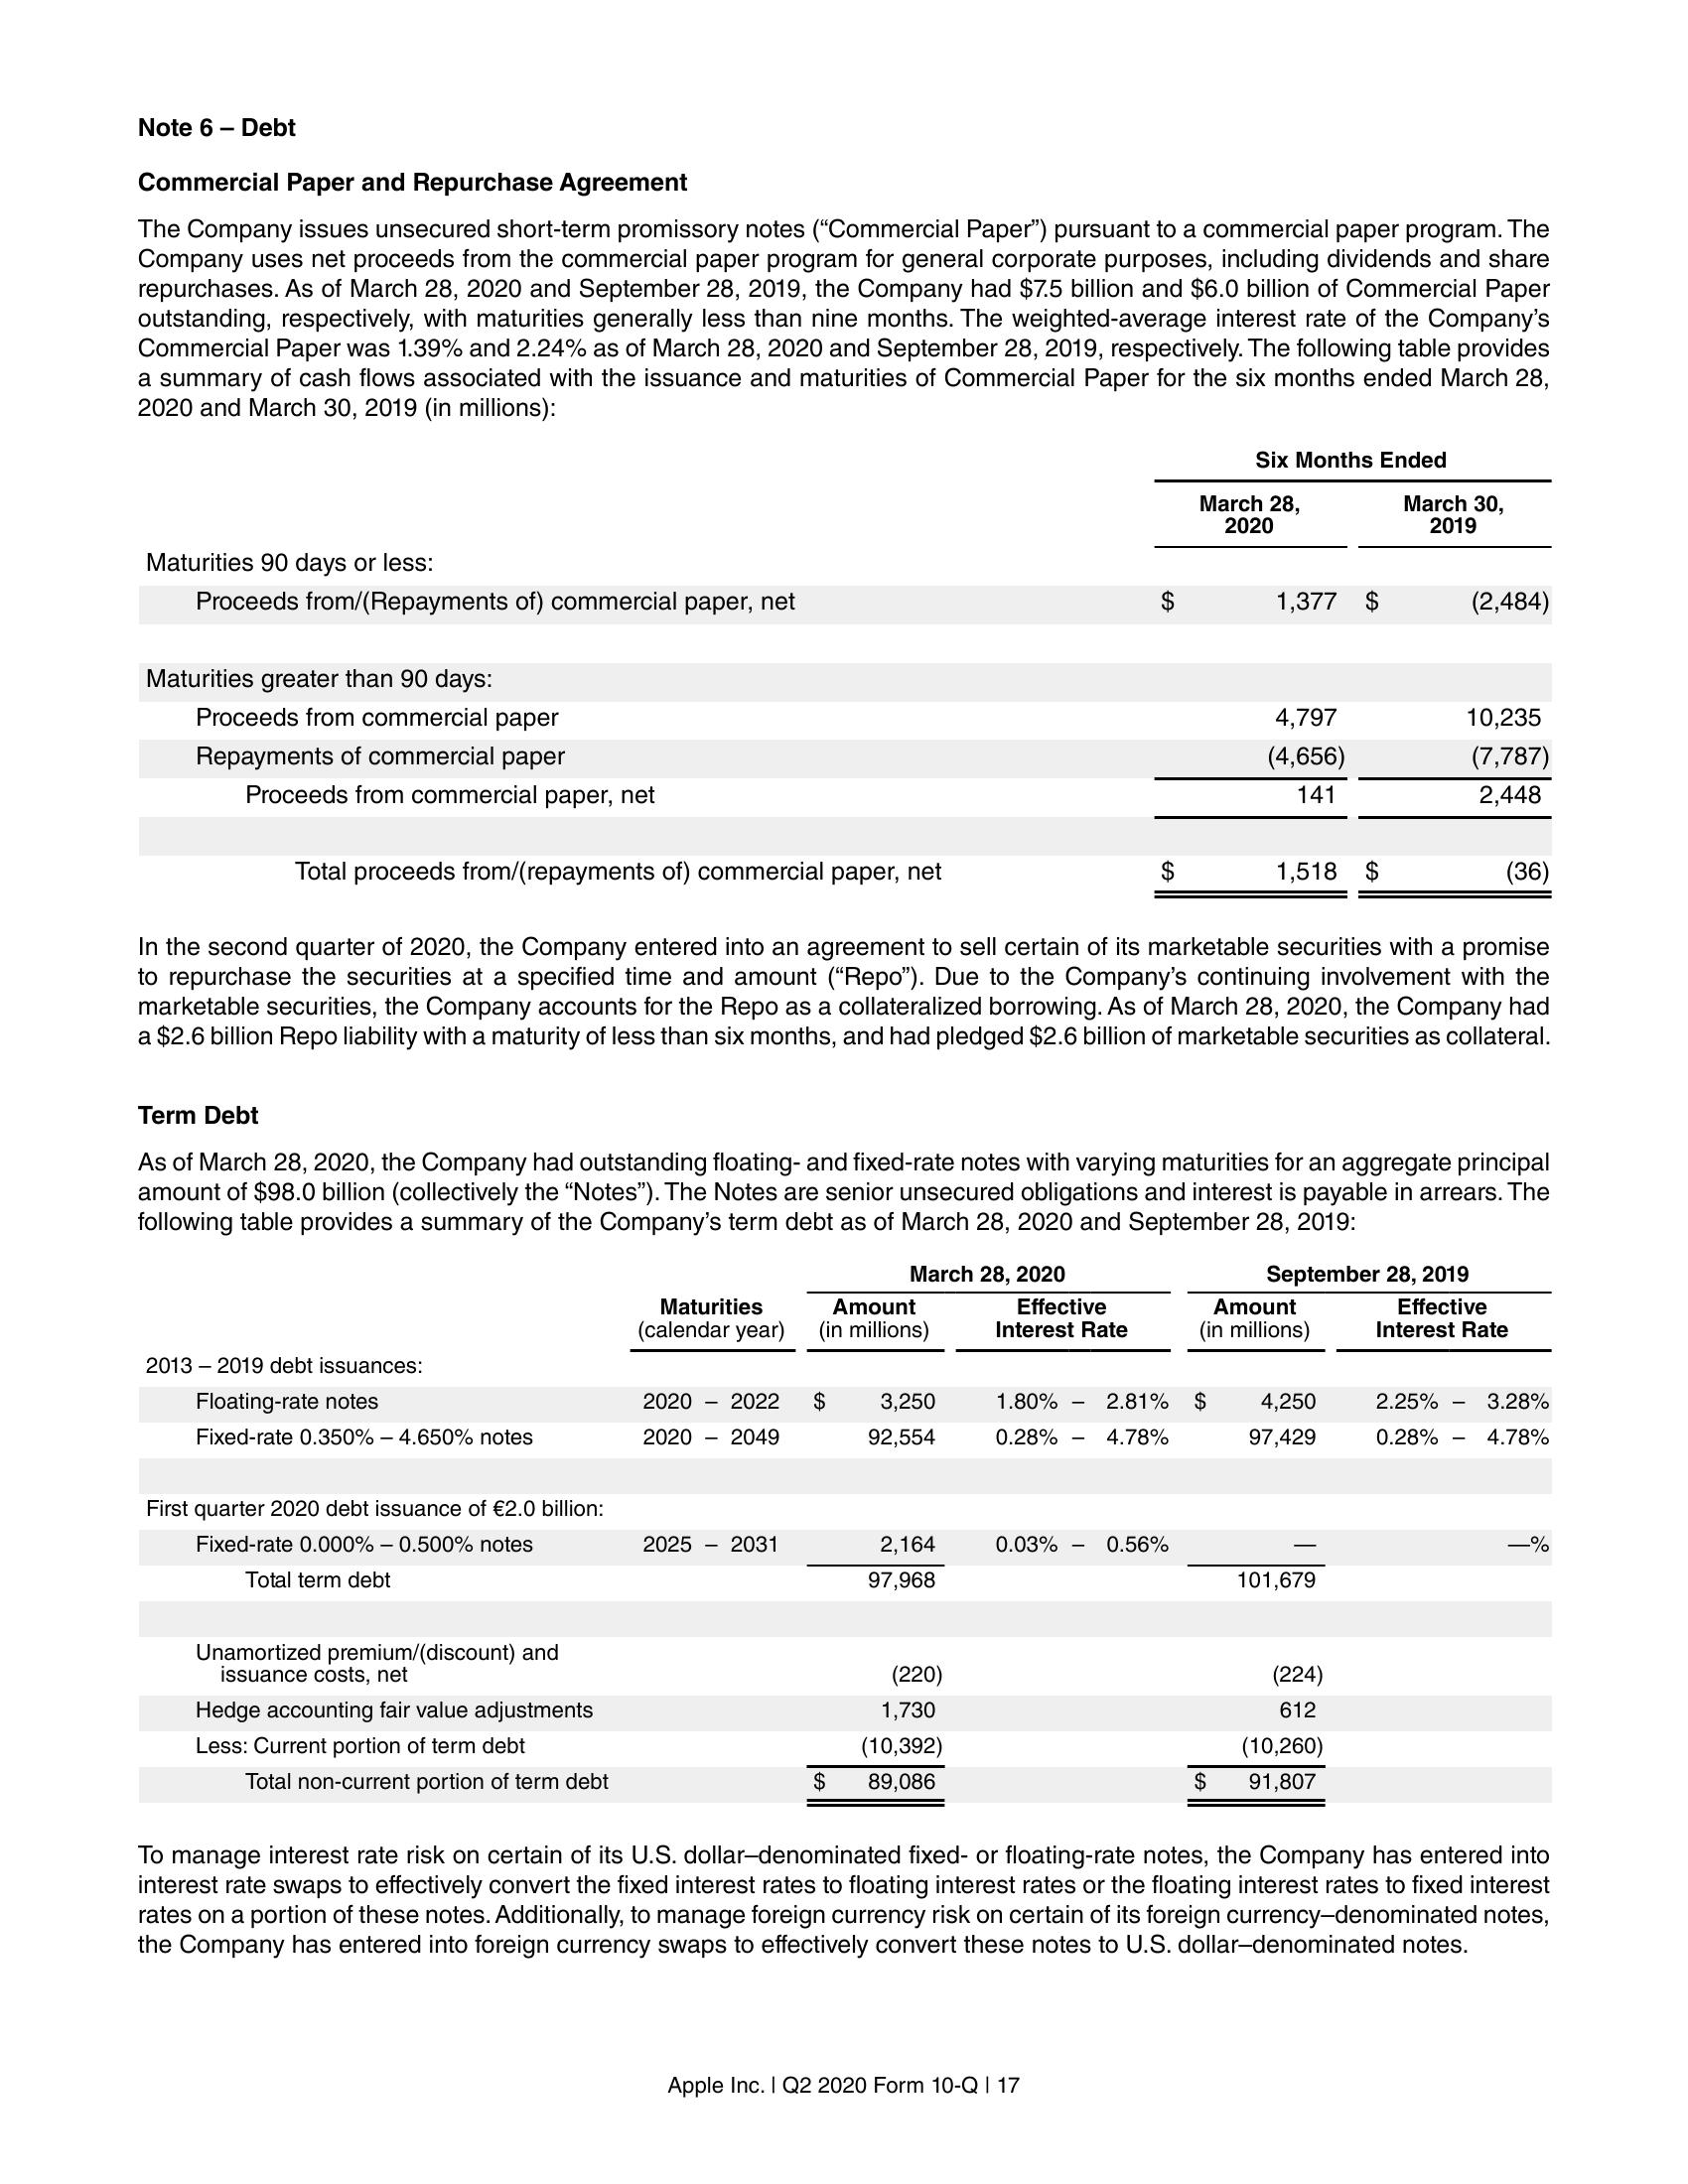table: (144, 1255, 1560, 1817), (128, 448, 1553, 906)
